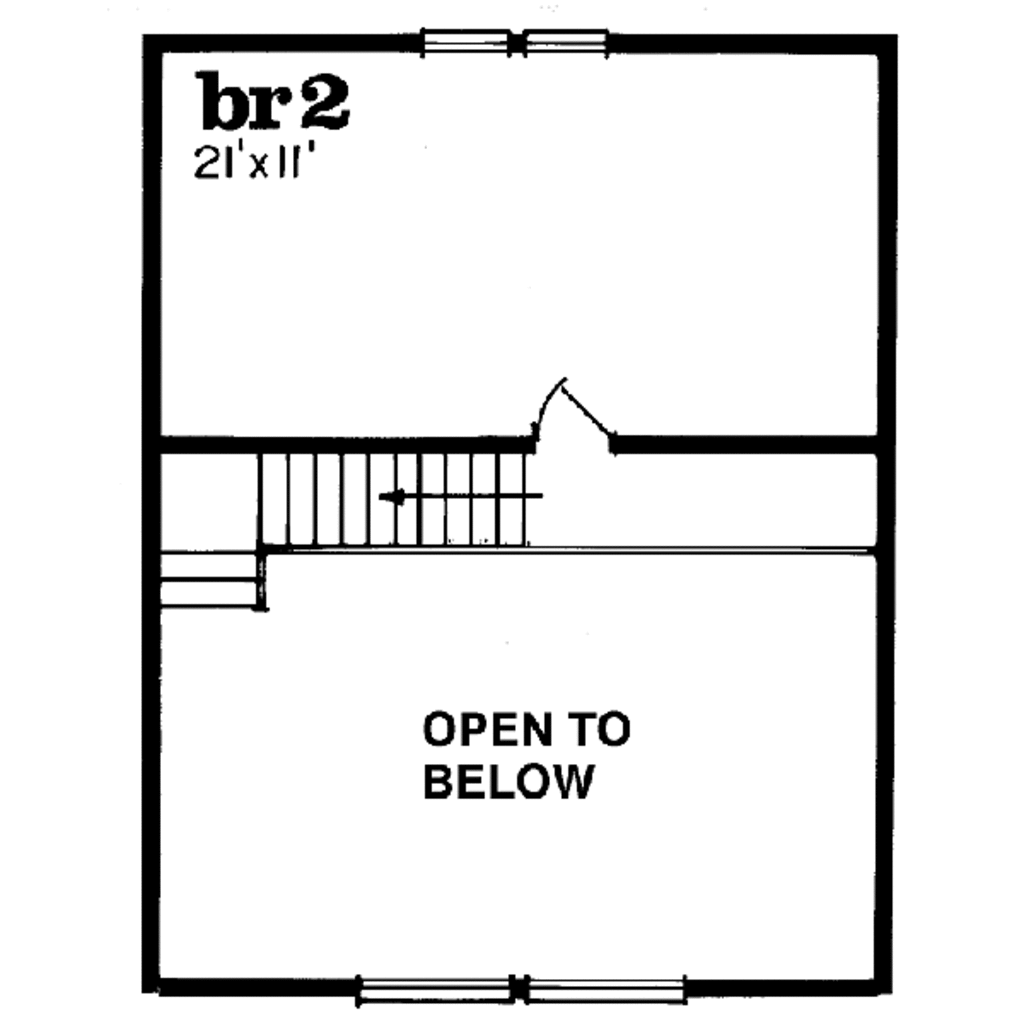door: (505, 361, 614, 447)
stairs: (163, 433, 531, 627)
window: (527, 971, 691, 1019), (348, 967, 514, 1011), (520, 21, 608, 60), (414, 30, 511, 60)
